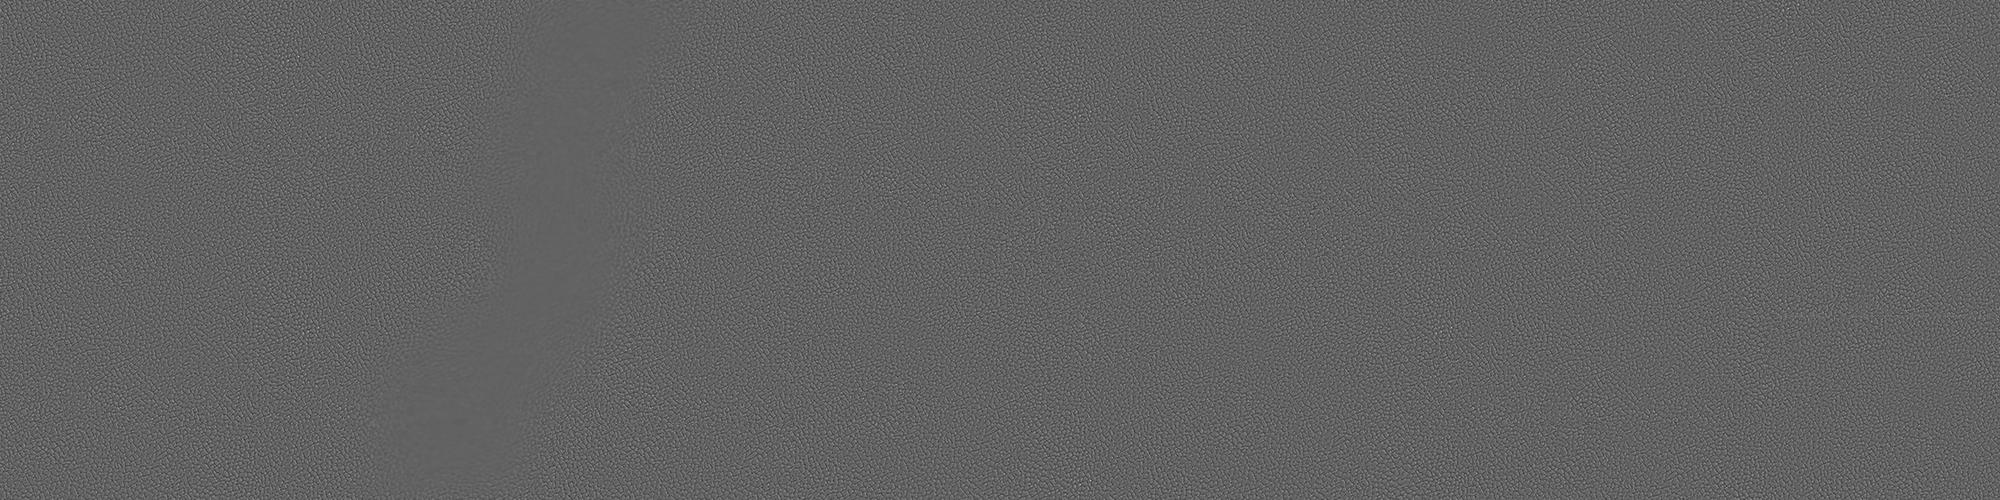Flow_Lines: (446, 33, 673, 499)
